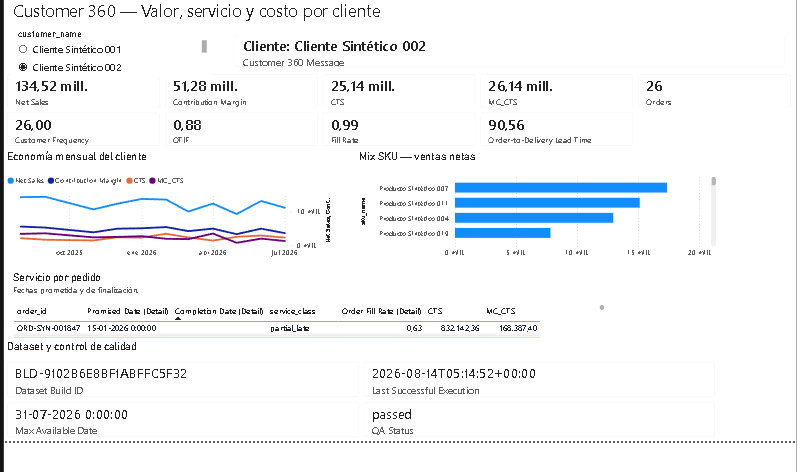

The page's visual inventory and layout, read from the dashboard file:
{"tool":"powerbi","page":{"name":"Customer 360","canvas":[1280,720],"ordinal":1},"visuals":[{"type":"textbox","box":[10,0,690,50],"z":0},{"type":"lineChart","title":"Economía mensual del cliente","fields":{"Category":["dim_date.month_start"],"Y2":["_Measures.Net Sales","_Measures.Contribution Margin","_Measures.CTS","_Measures.MC_CTS"]},"box":[0,250.5,533.9,183.3],"z":1000},{"type":"cardVisual","fields":{"Data":["_Measures.Customer 360 Message"]},"box":[355.6,48.5,924.4,85.7],"z":2000},{"type":"cardVisual","fields":{"Data":["_Measures.Net Sales","_Measures.Contribution Margin","_Measures.CTS","_Measures.MC_CTS","_Measures.Orders","_Measures.Customer Frequency","_Measures.OTIF","_Measures.Fill Rate","_Measures.Order-to-Delivery Lead Time"]},"box":[0,122.8,1280,127.7],"z":3000},{"type":"clusteredBarChart","title":"Mix SKU — ventas netas","fields":{"Category":["dim_product.sku_name"],"Y":["_Measures.Net Sales by SKU"]},"box":[568.9,250.5,586.9,183.3],"z":4000},{"type":"tableEx","title":"Servicio por pedido","fields":{"Values":["fact_orders.order_id","_Measures.Promised Date (Detail)","_Measures.Completion Date (Detail)","fact_orders.service_class","_Measures.Order Fill Rate (Detail)","_Measures.CTS","_Measures.MC_CTS"]},"box":[9.7,446.1,965.7,131.4],"z":5000},{"type":"cardVisual","title":"Dataset y control de calidad","fields":{"Data":["_Measures.Dataset Build ID","_Measures.Last Successful Execution","_Measures.Max Available Date","_Measures.QA Status"]},"box":[0,557.6,1155.6,163.2],"z":6000},{"type":"slicer","fields":{"Values":["dim_customer.customer_name"]},"box":[9.7,50.1,323.2,84],"z":6001}]}

Visuals, with their boxes on the page's 1280x720 design canvas (x1, y1, x2, y2). These are canvas units, not pixel positions in the 802x472 screenshot, which may show the page scaled, cropped or inside an application window:
textbox: bbox=[10, 0, 700, 50]
"Economía mensual del cliente" lineChart: bbox=[0, 250, 534, 434]
cardVisual - _Measures.Customer 360 Message: bbox=[356, 48, 1280, 134]
cardVisual - _Measures.Net Sales x _Measures.Contribution Margin: bbox=[0, 123, 1280, 250]
"Mix SKU — ventas netas" clusteredBarChart: bbox=[569, 250, 1156, 434]
"Servicio por pedido" tableEx: bbox=[10, 446, 975, 578]
"Dataset y control de calidad" cardVisual: bbox=[0, 558, 1156, 721]
slicer - dim_customer.customer_name: bbox=[10, 50, 333, 134]
